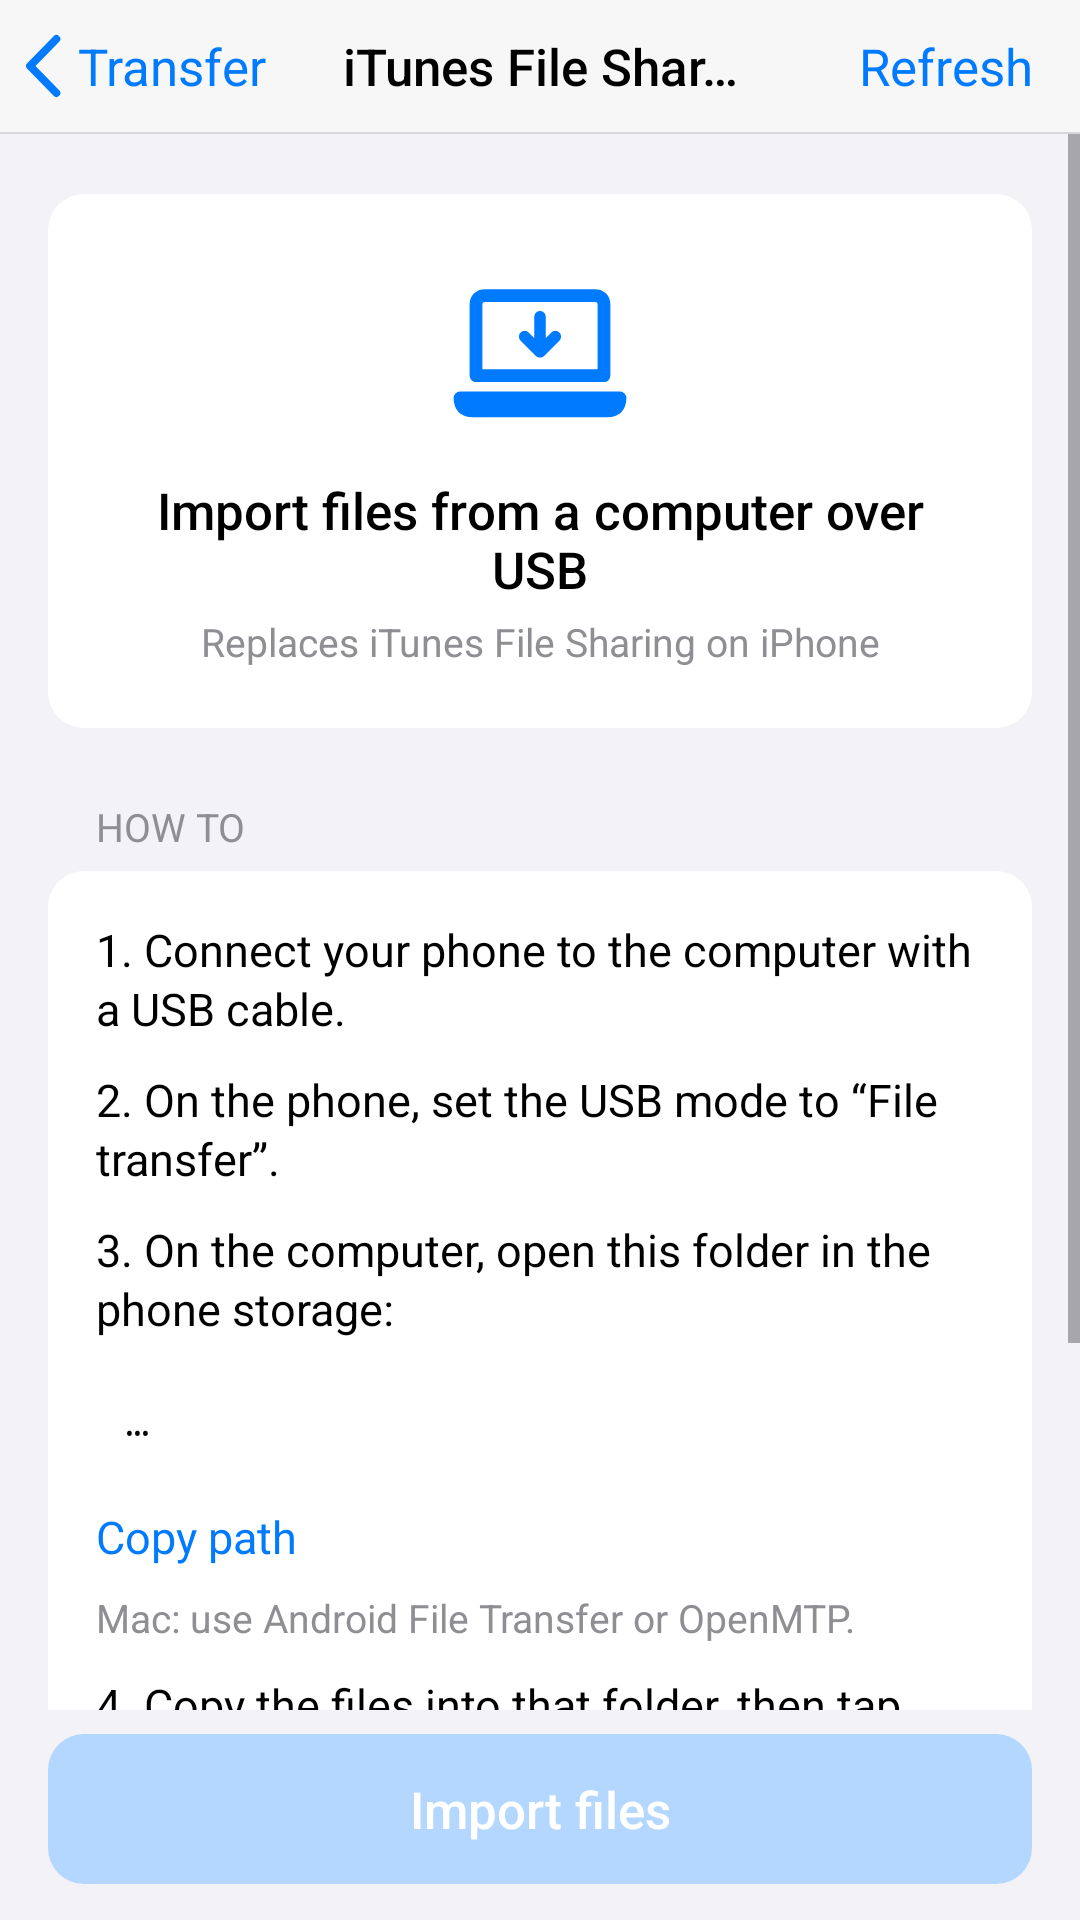

Locate icon controls on the screen. Image size 1080 x 1920, boxes as (x1, y1, x2, y2).
back: (26, 34, 61, 98)
transfer usb: (453, 289, 627, 418)
